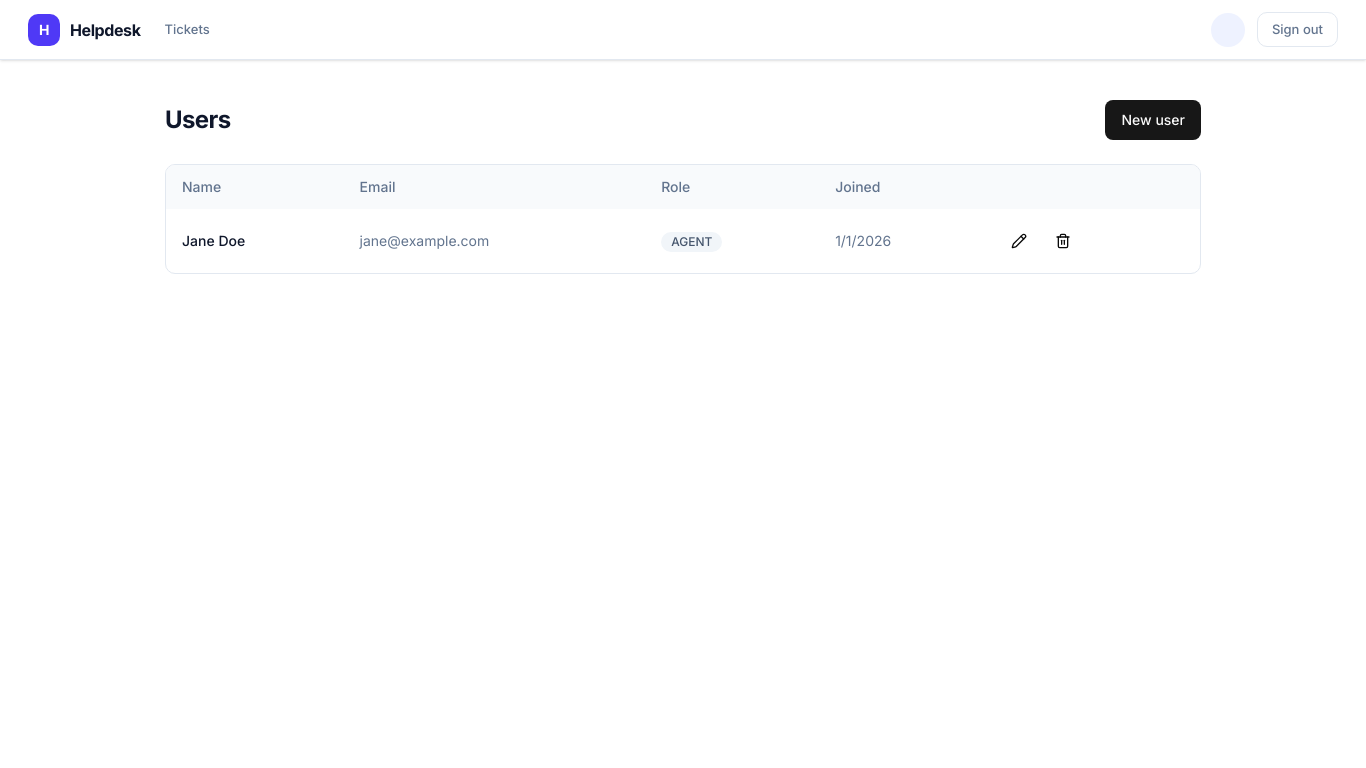
Test case: UsersPage › deletes a user via the confirmation dialog
This screenshot has width=1366, height=768.
Expected: the text "jane@example.com" is shown, [344,209,645,273]
Click the button named "delete jane doe" at (1064, 241), box [1044,221,1084,261]
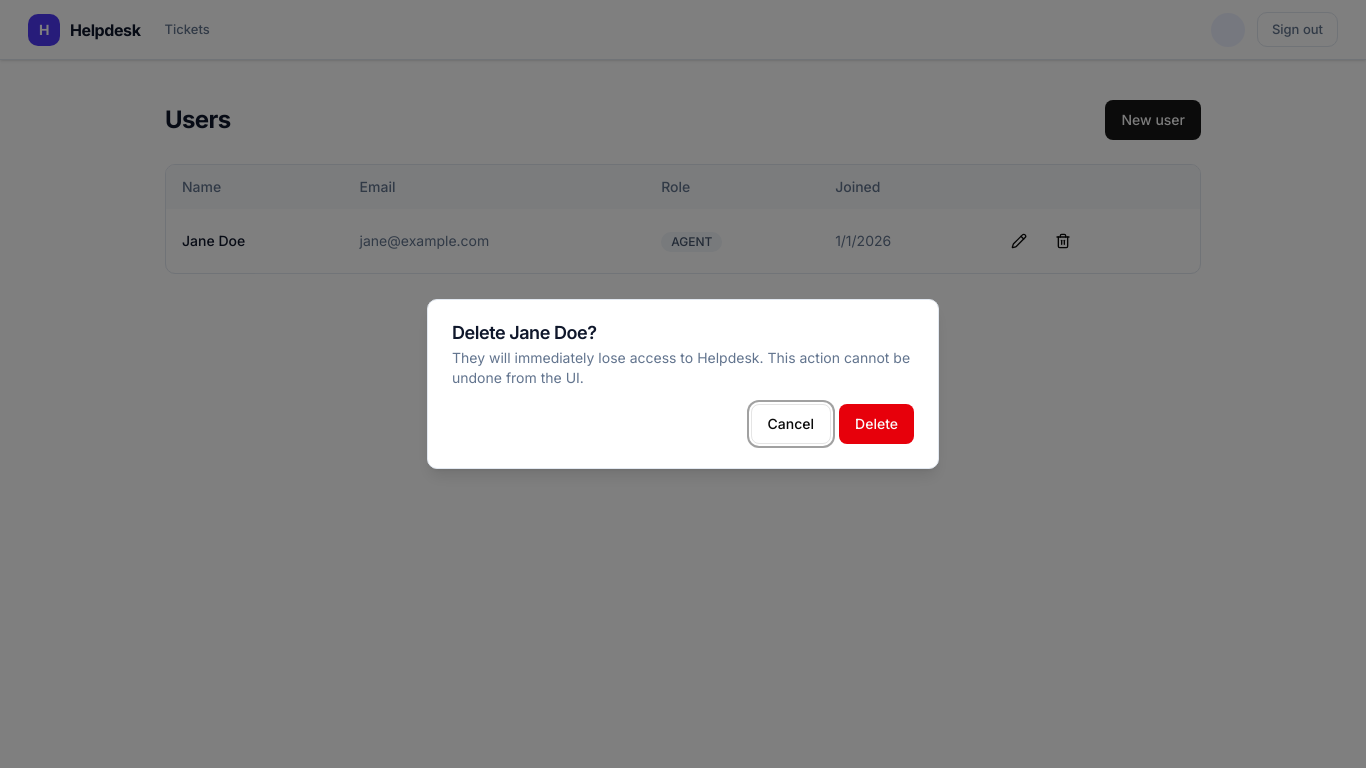
Expected: the dialog is shown, [427,299,939,469]
Expected: the heading "Delete Jane Doe?" is shown, [452,322,596,343]
Click the button "Delete" at (877, 424), box [839,404,914,444]
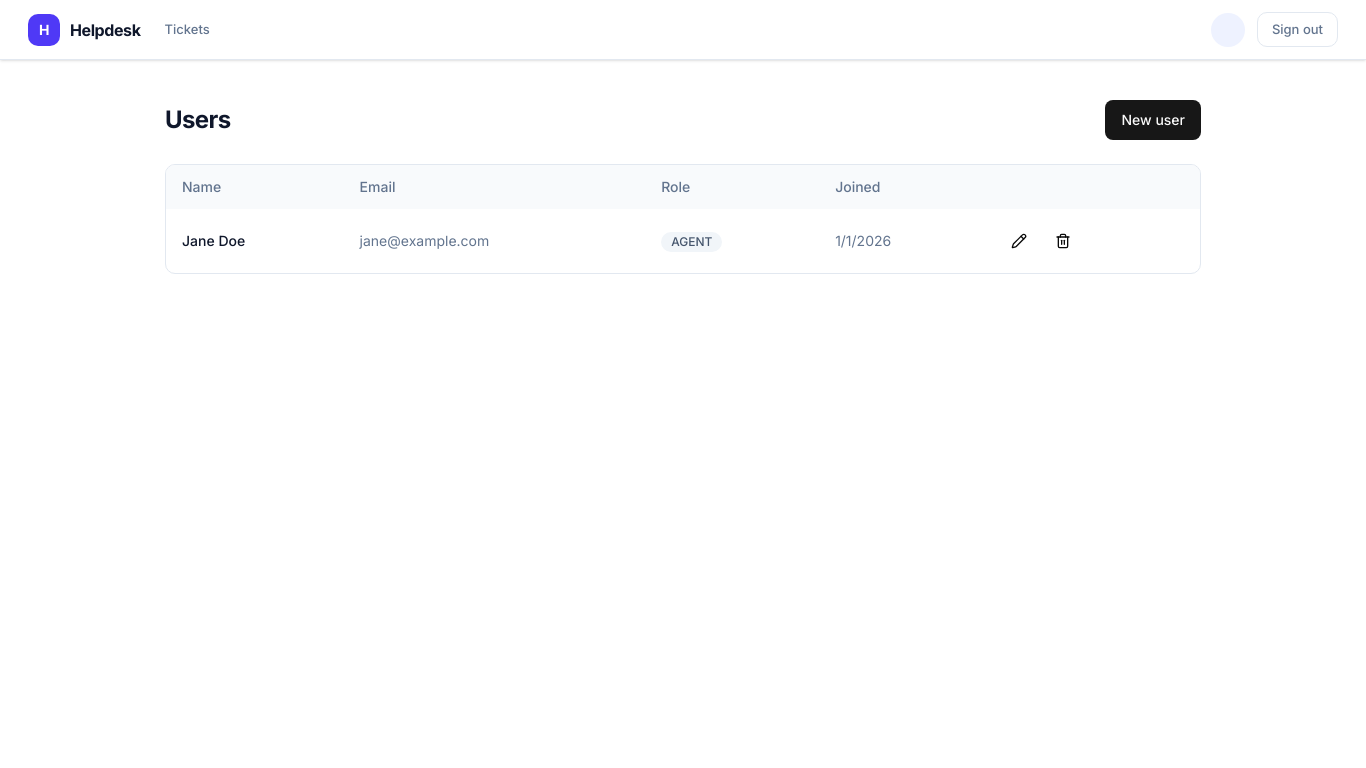
Expected: the dialog is gone
